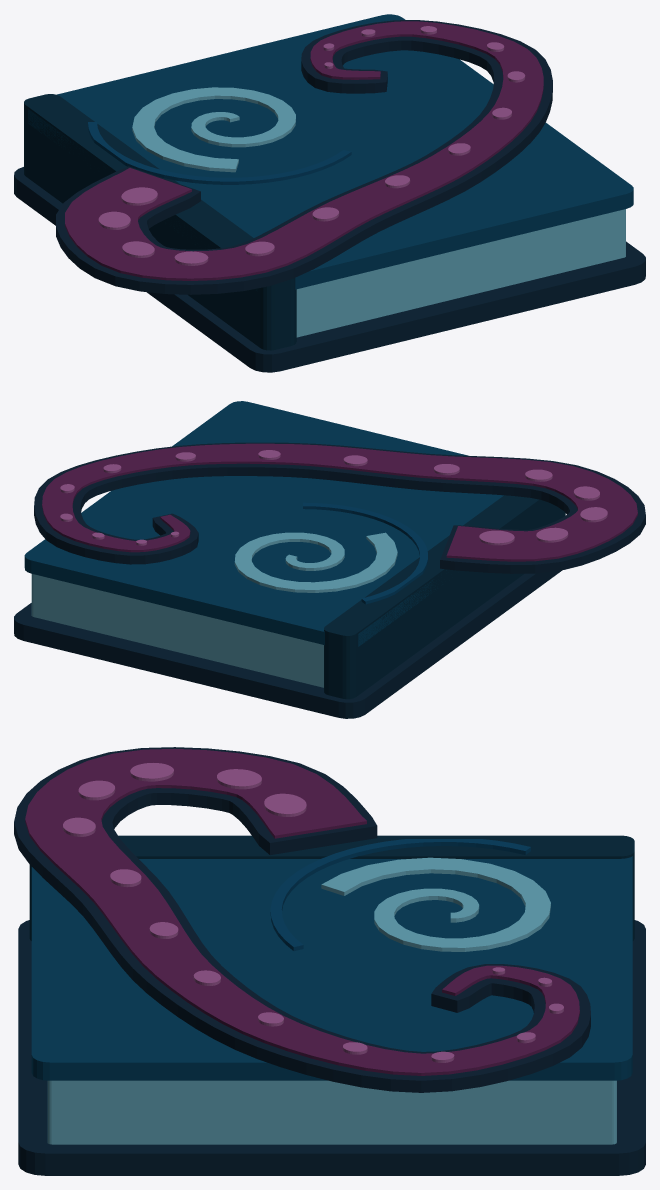
Rendered from book_tentaculo.fbx.
The picture shows the model from 3 angles, top to bottom: view 1: azimuth 30°, elevation 25°; view 2: azimuth 150°, elevation 25°; view 3: azimuth 270°, elevation 25°; orthographic projection. The views are drawn at different scales.
Visible parts, largest first — view 1: book_tentaculo_livro, book_tentaculo_anim_ponta, book_tentaculo_anim_espiral; view 2: book_tentaculo_livro, book_tentaculo_anim_ponta, book_tentaculo_anim_espiral; view 3: book_tentaculo_livro, book_tentaculo_anim_ponta, book_tentaculo_anim_espiral.
Boxes of the visible parts, left/top/right/bottom form: book_tentaculo_livro: left=14, top=14, right=645, bottom=372; book_tentaculo_anim_ponta: left=301, top=20, right=552, bottom=121; book_tentaculo_anim_espiral: left=88, top=87, right=351, bottom=184; book_tentaculo_livro: left=14, top=401, right=645, bottom=718; book_tentaculo_anim_ponta: left=34, top=448, right=198, bottom=564; book_tentaculo_anim_espiral: left=234, top=502, right=427, bottom=604; book_tentaculo_livro: left=14, top=747, right=645, bottom=1175; book_tentaculo_anim_ponta: left=257, top=964, right=590, bottom=1092; book_tentaculo_anim_espiral: left=270, top=839, right=550, bottom=951.
Size of the model in its own units: 3.52 by 0.632 by 2.82.
1 material, 1 textured.
